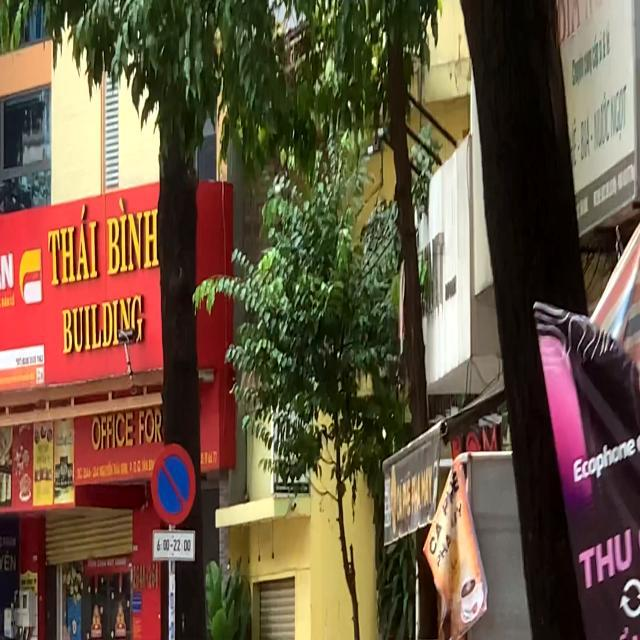P-131a: (150, 444, 196, 526)
